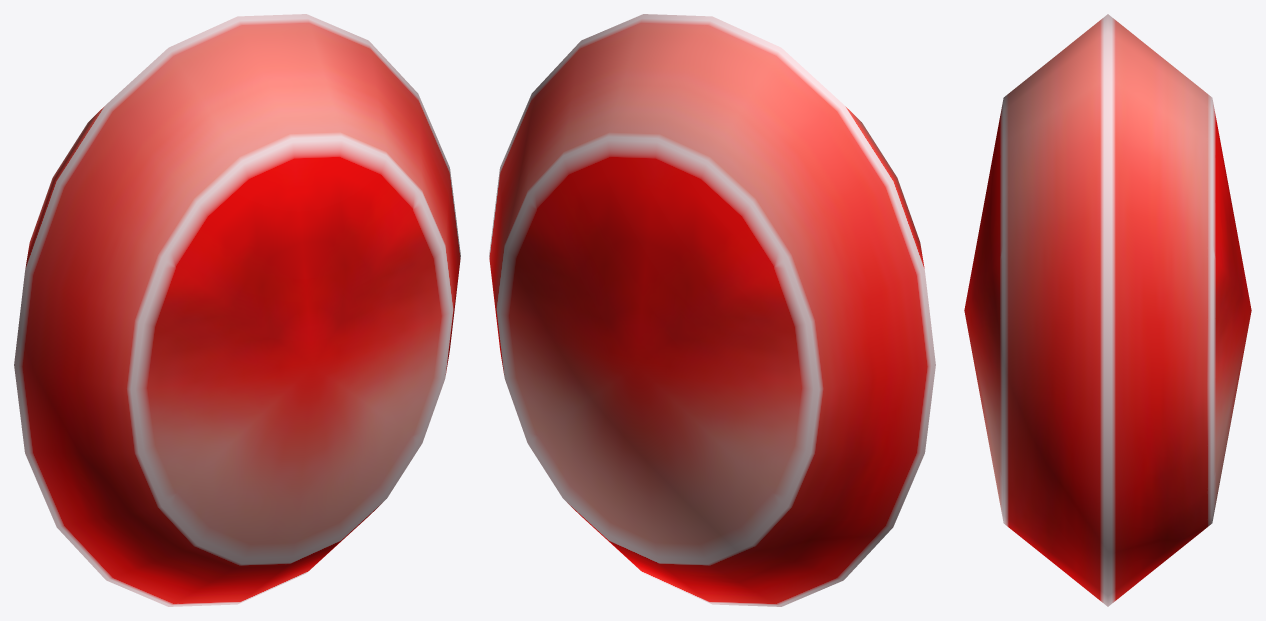
File: ruby.fbx
The picture shows the model from 3 angles, left to right: view 1: azimuth 30°, elevation 25°; view 2: azimuth 150°, elevation 25°; view 3: azimuth 270°, elevation 25°; orthographic projection. The views are drawn at different scales.
Visible parts, largest first — view 1: ruby; view 2: ruby; view 3: ruby.
Part boxes in pixels (x1,y1,x2,y2): ruby: (14,14,460,606); ruby: (489,14,935,606); ruby: (964,14,1251,606).
Size of the model in its own units: 3.07 by 3.86 by 1.8.
